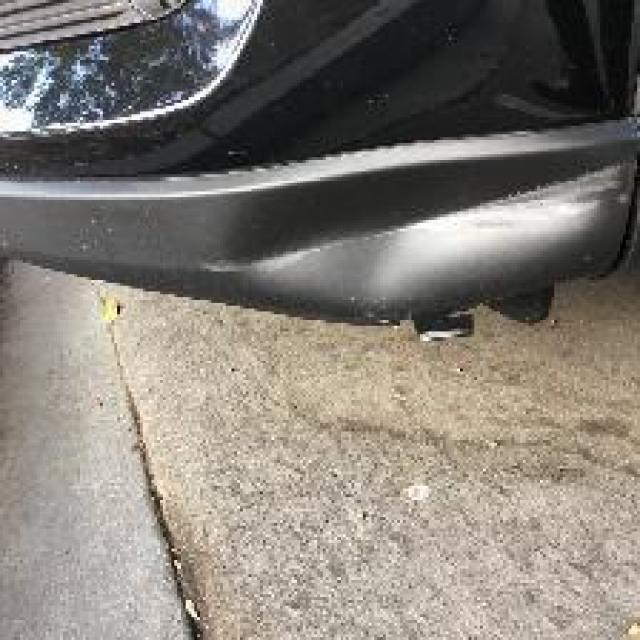damaged: (240, 154, 637, 294)
